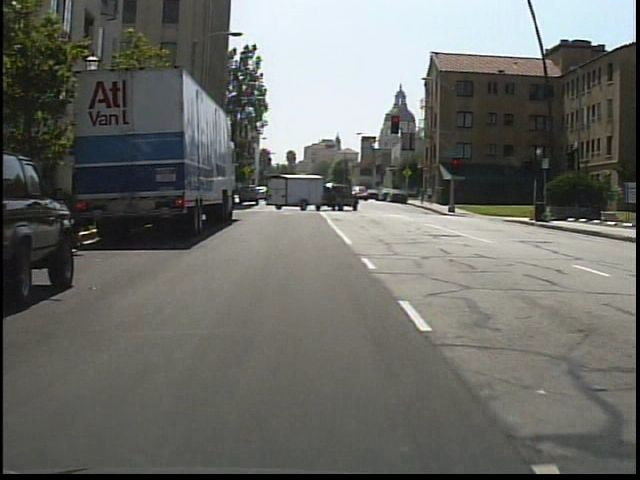person: (427, 184, 439, 210), (418, 186, 427, 208)
